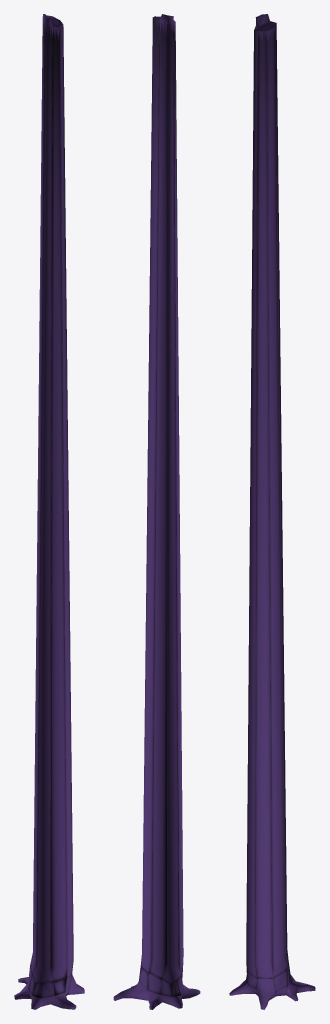
File: stump.obj
3 views of the same model, side by side, from view 1: azimuth 90°, elevation 25°; view 2: azimuth 150°, elevation 25°; view 3: azimuth 330°, elevation 25° (orthographic).
Parts seen in each view (by area): view 1: treeStump; view 2: treeStump; view 3: treeStump.
Boxes of the visible parts, <box> form: treeStump: <box>14,14,84,1009</box>; treeStump: <box>113,14,200,1009</box>; treeStump: <box>229,14,315,1009</box>.
Size of the model in its own units: 1.95 by 29.53 by 1.91.
1 material, 1 textured.
